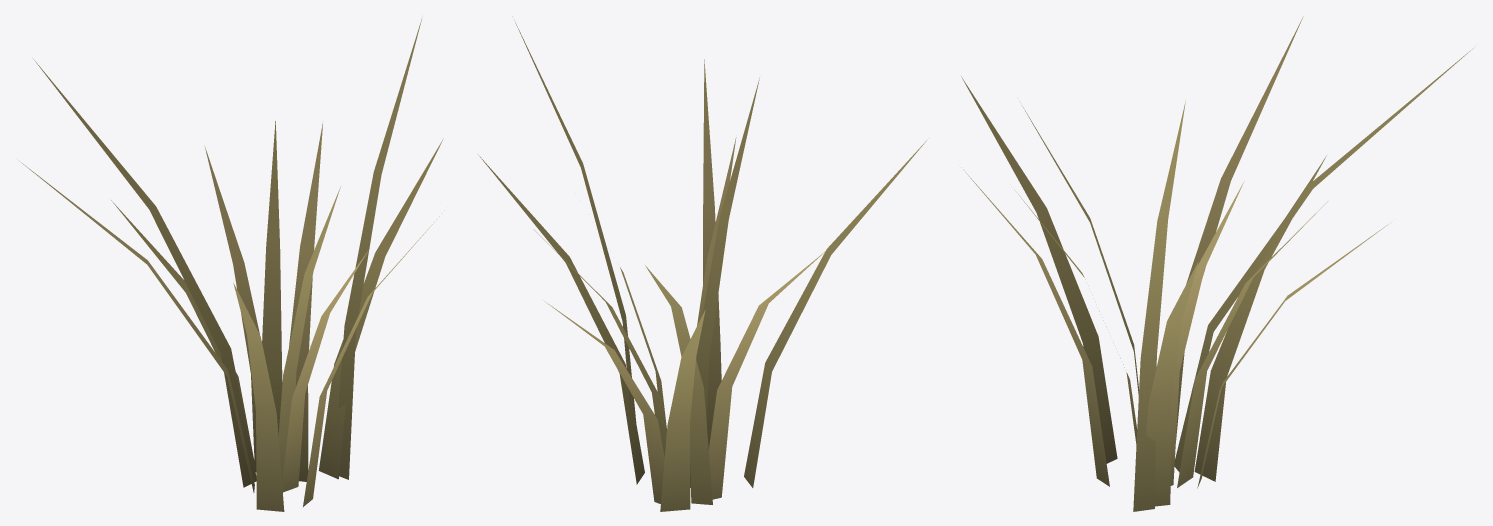
File: grass.tall.dry.glb
3 views of the same model, side by side, from view 1: azimuth 30°, elevation 25°; view 2: azimuth 150°, elevation 25°; view 3: azimuth 270°, elevation 25° (orthographic). The views are drawn at different scales.
Parts seen in each view (by area): view 1: grass_tall_dry; view 2: grass_tall_dry; view 3: grass_tall_dry.
Part boxes in pixels (x1=…): grass_tall_dry: x1=19, y1=19, x2=444, y2=511; grass_tall_dry: x1=479, y1=16, x2=926, y2=511; grass_tall_dry: x1=961, y1=16, x2=1475, y2=511.
Bounding box in the file's own units: 0.8115 × 0.8599 × 0.8707.
